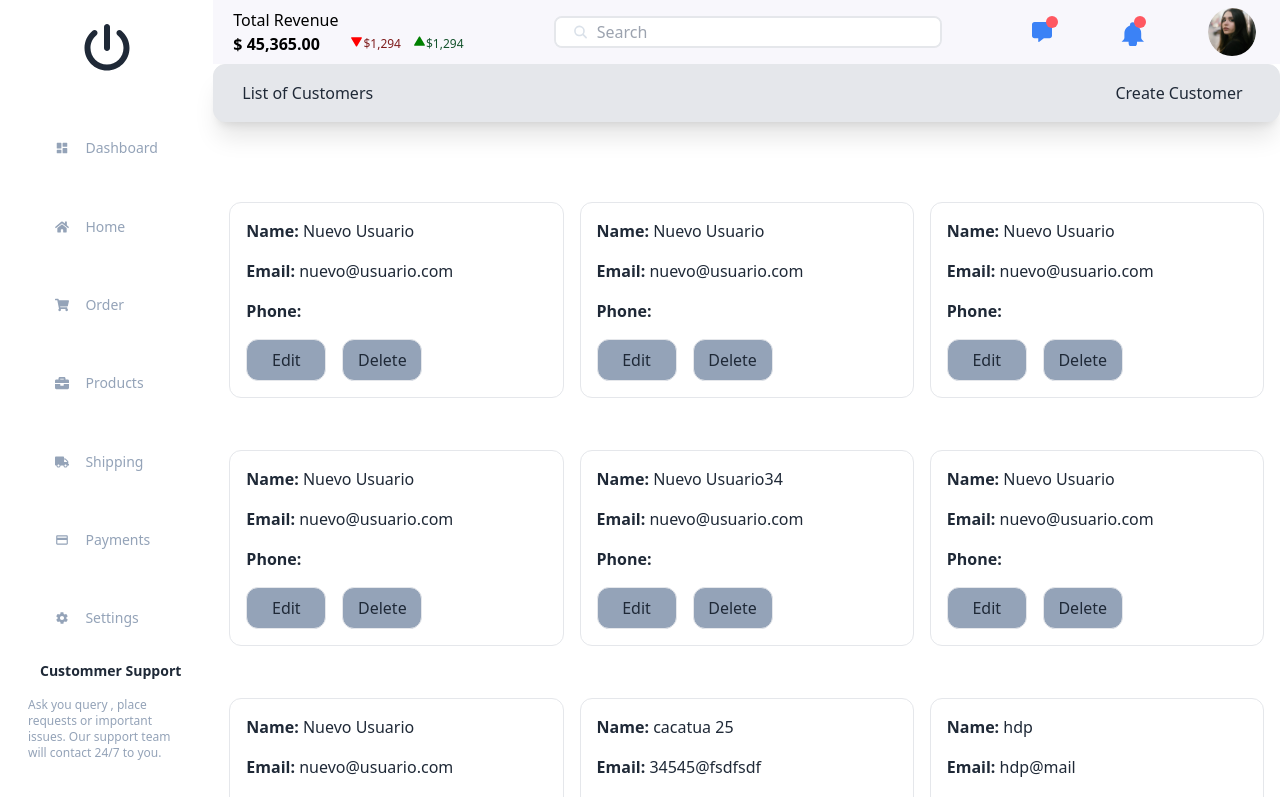
Testeando la app en general › Deveria renderizar el modal de crear user
Note: clic en el botón de "Crear Customer"
Click the button "Create Customer".
click(1179, 93)  # box [1111,81,1247,105]
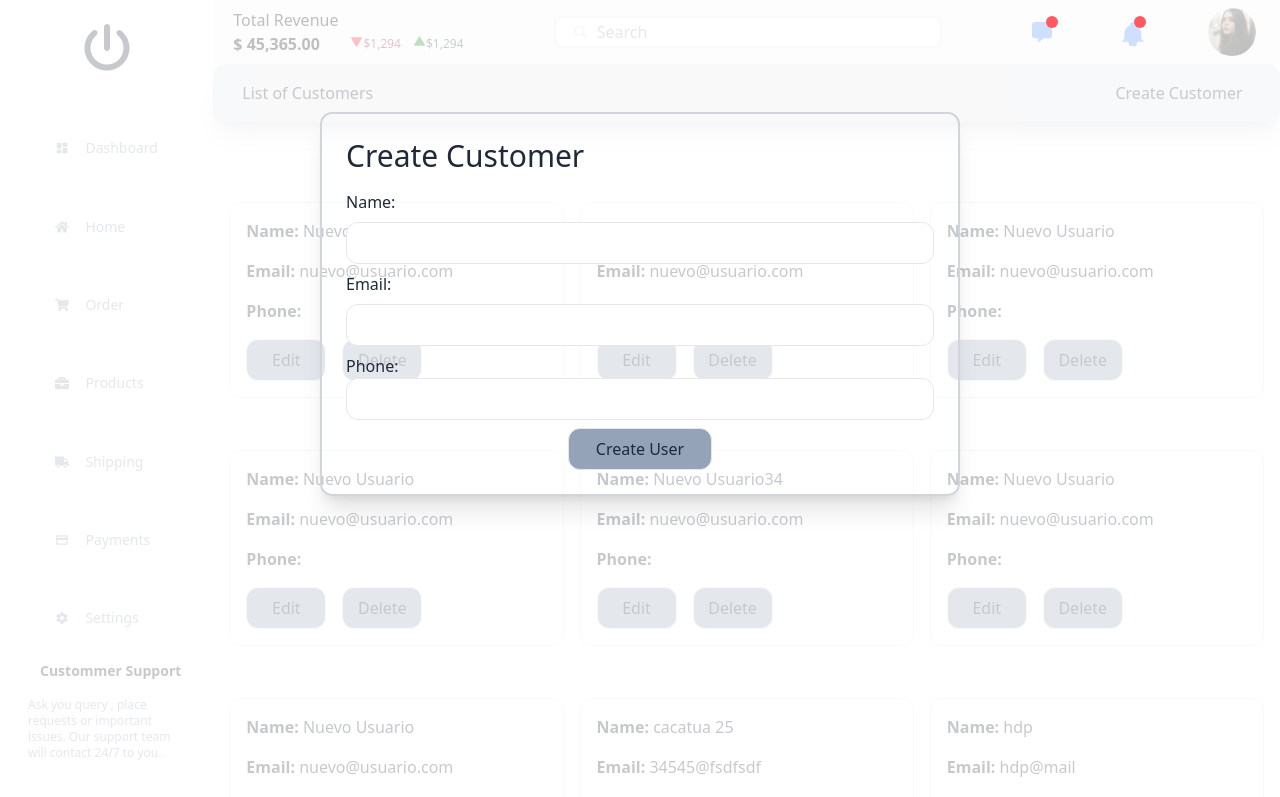
Expected: the form with test id "create-user-modal" is shown, [346,190,934,470]
